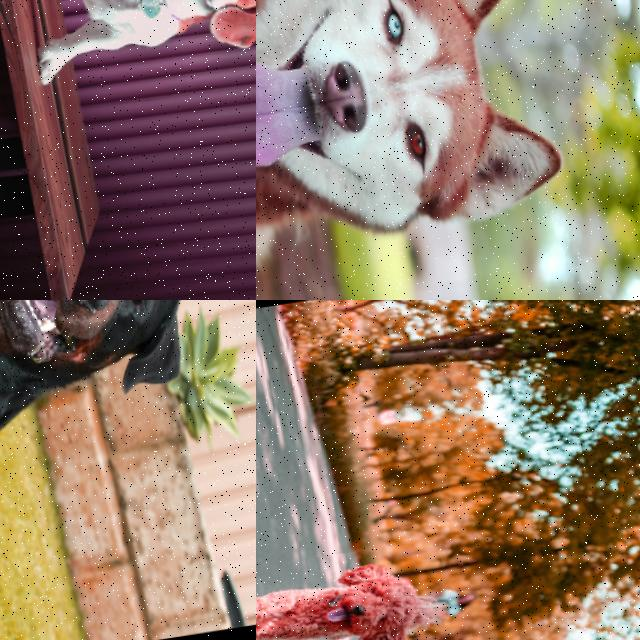beagle: (145, 0, 256, 91)
husky: (256, 0, 601, 300)
poodle: (302, 540, 453, 640)
rottweiler: (0, 300, 246, 460)
